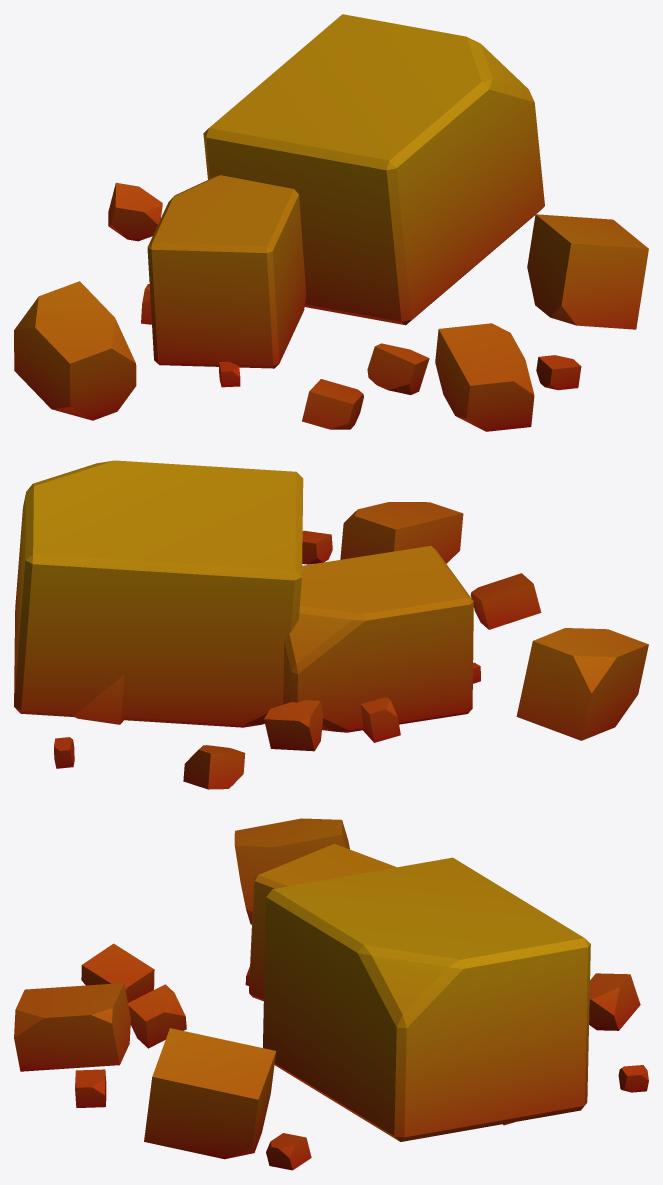
The model's file is rubble.glb.
The picture shows the model from 3 angles, top to bottom: view 1: azimuth 30°, elevation 25°; view 2: azimuth 150°, elevation 25°; view 3: azimuth 270°, elevation 25°; orthographic projection.
Parts seen in each view (by area): view 1: rubble; view 2: rubble; view 3: rubble.
Part boxes in pixels (<box>): rubble: <box>14,14,648,431</box>; rubble: <box>14,460,648,789</box>; rubble: <box>14,818,648,1170</box>.
Size of what is drawn, in the model's own units: 2.75 by 0.8772 by 2.68.
